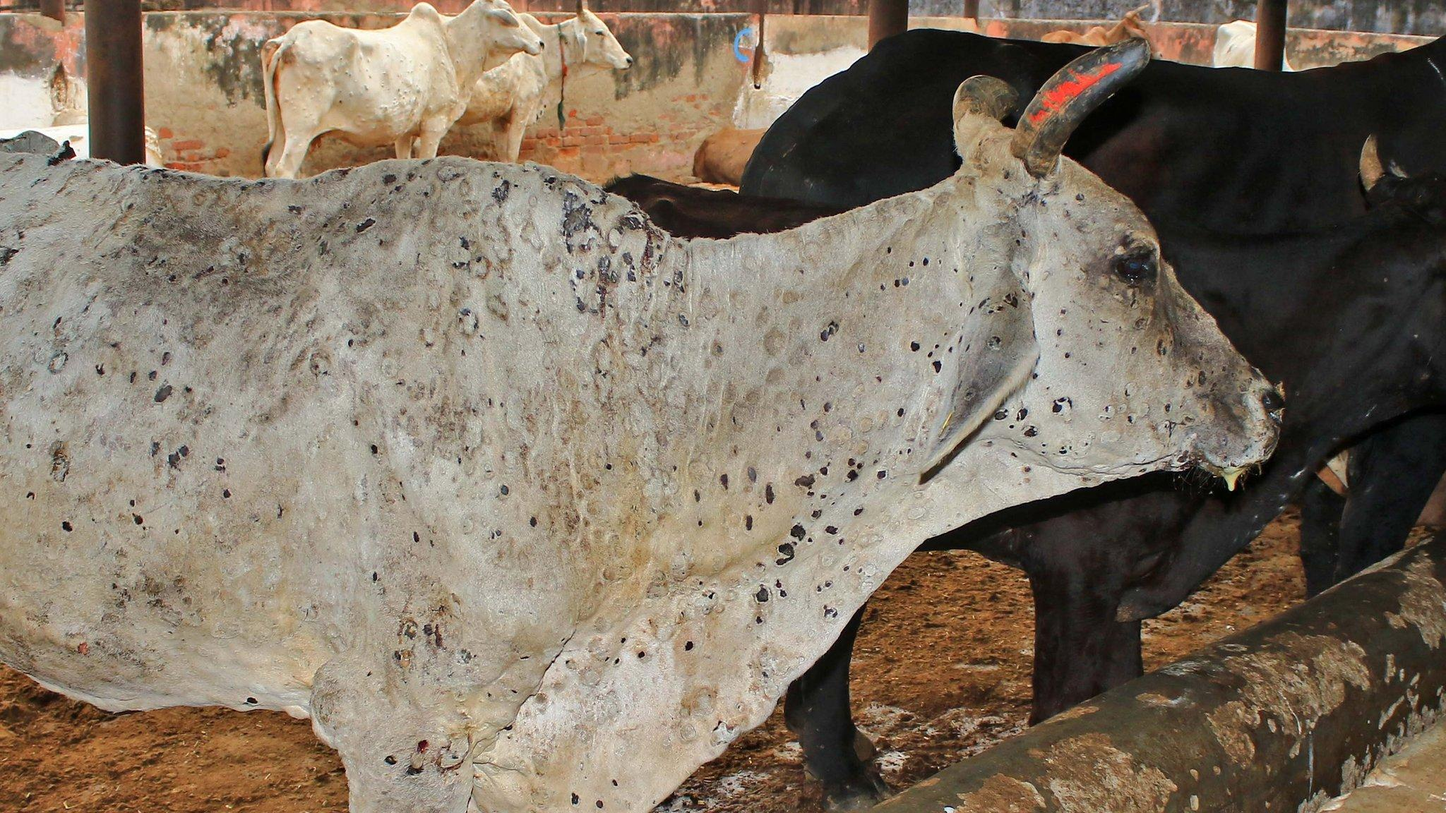infection: (11, 177, 815, 666)
